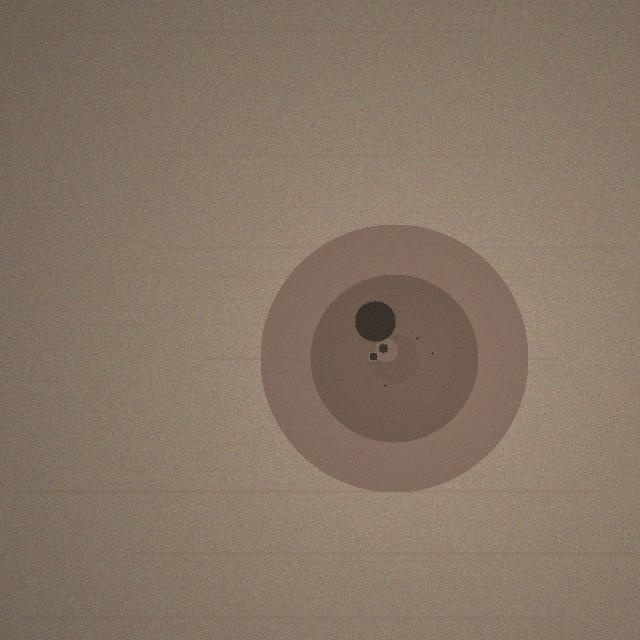shrinkage: (260, 224, 528, 492)
